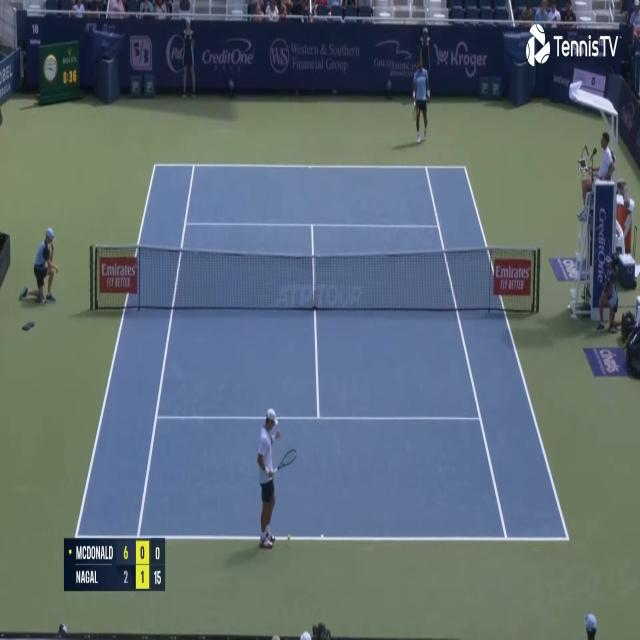tennis-player: (254, 405, 298, 554), (411, 54, 431, 143)
